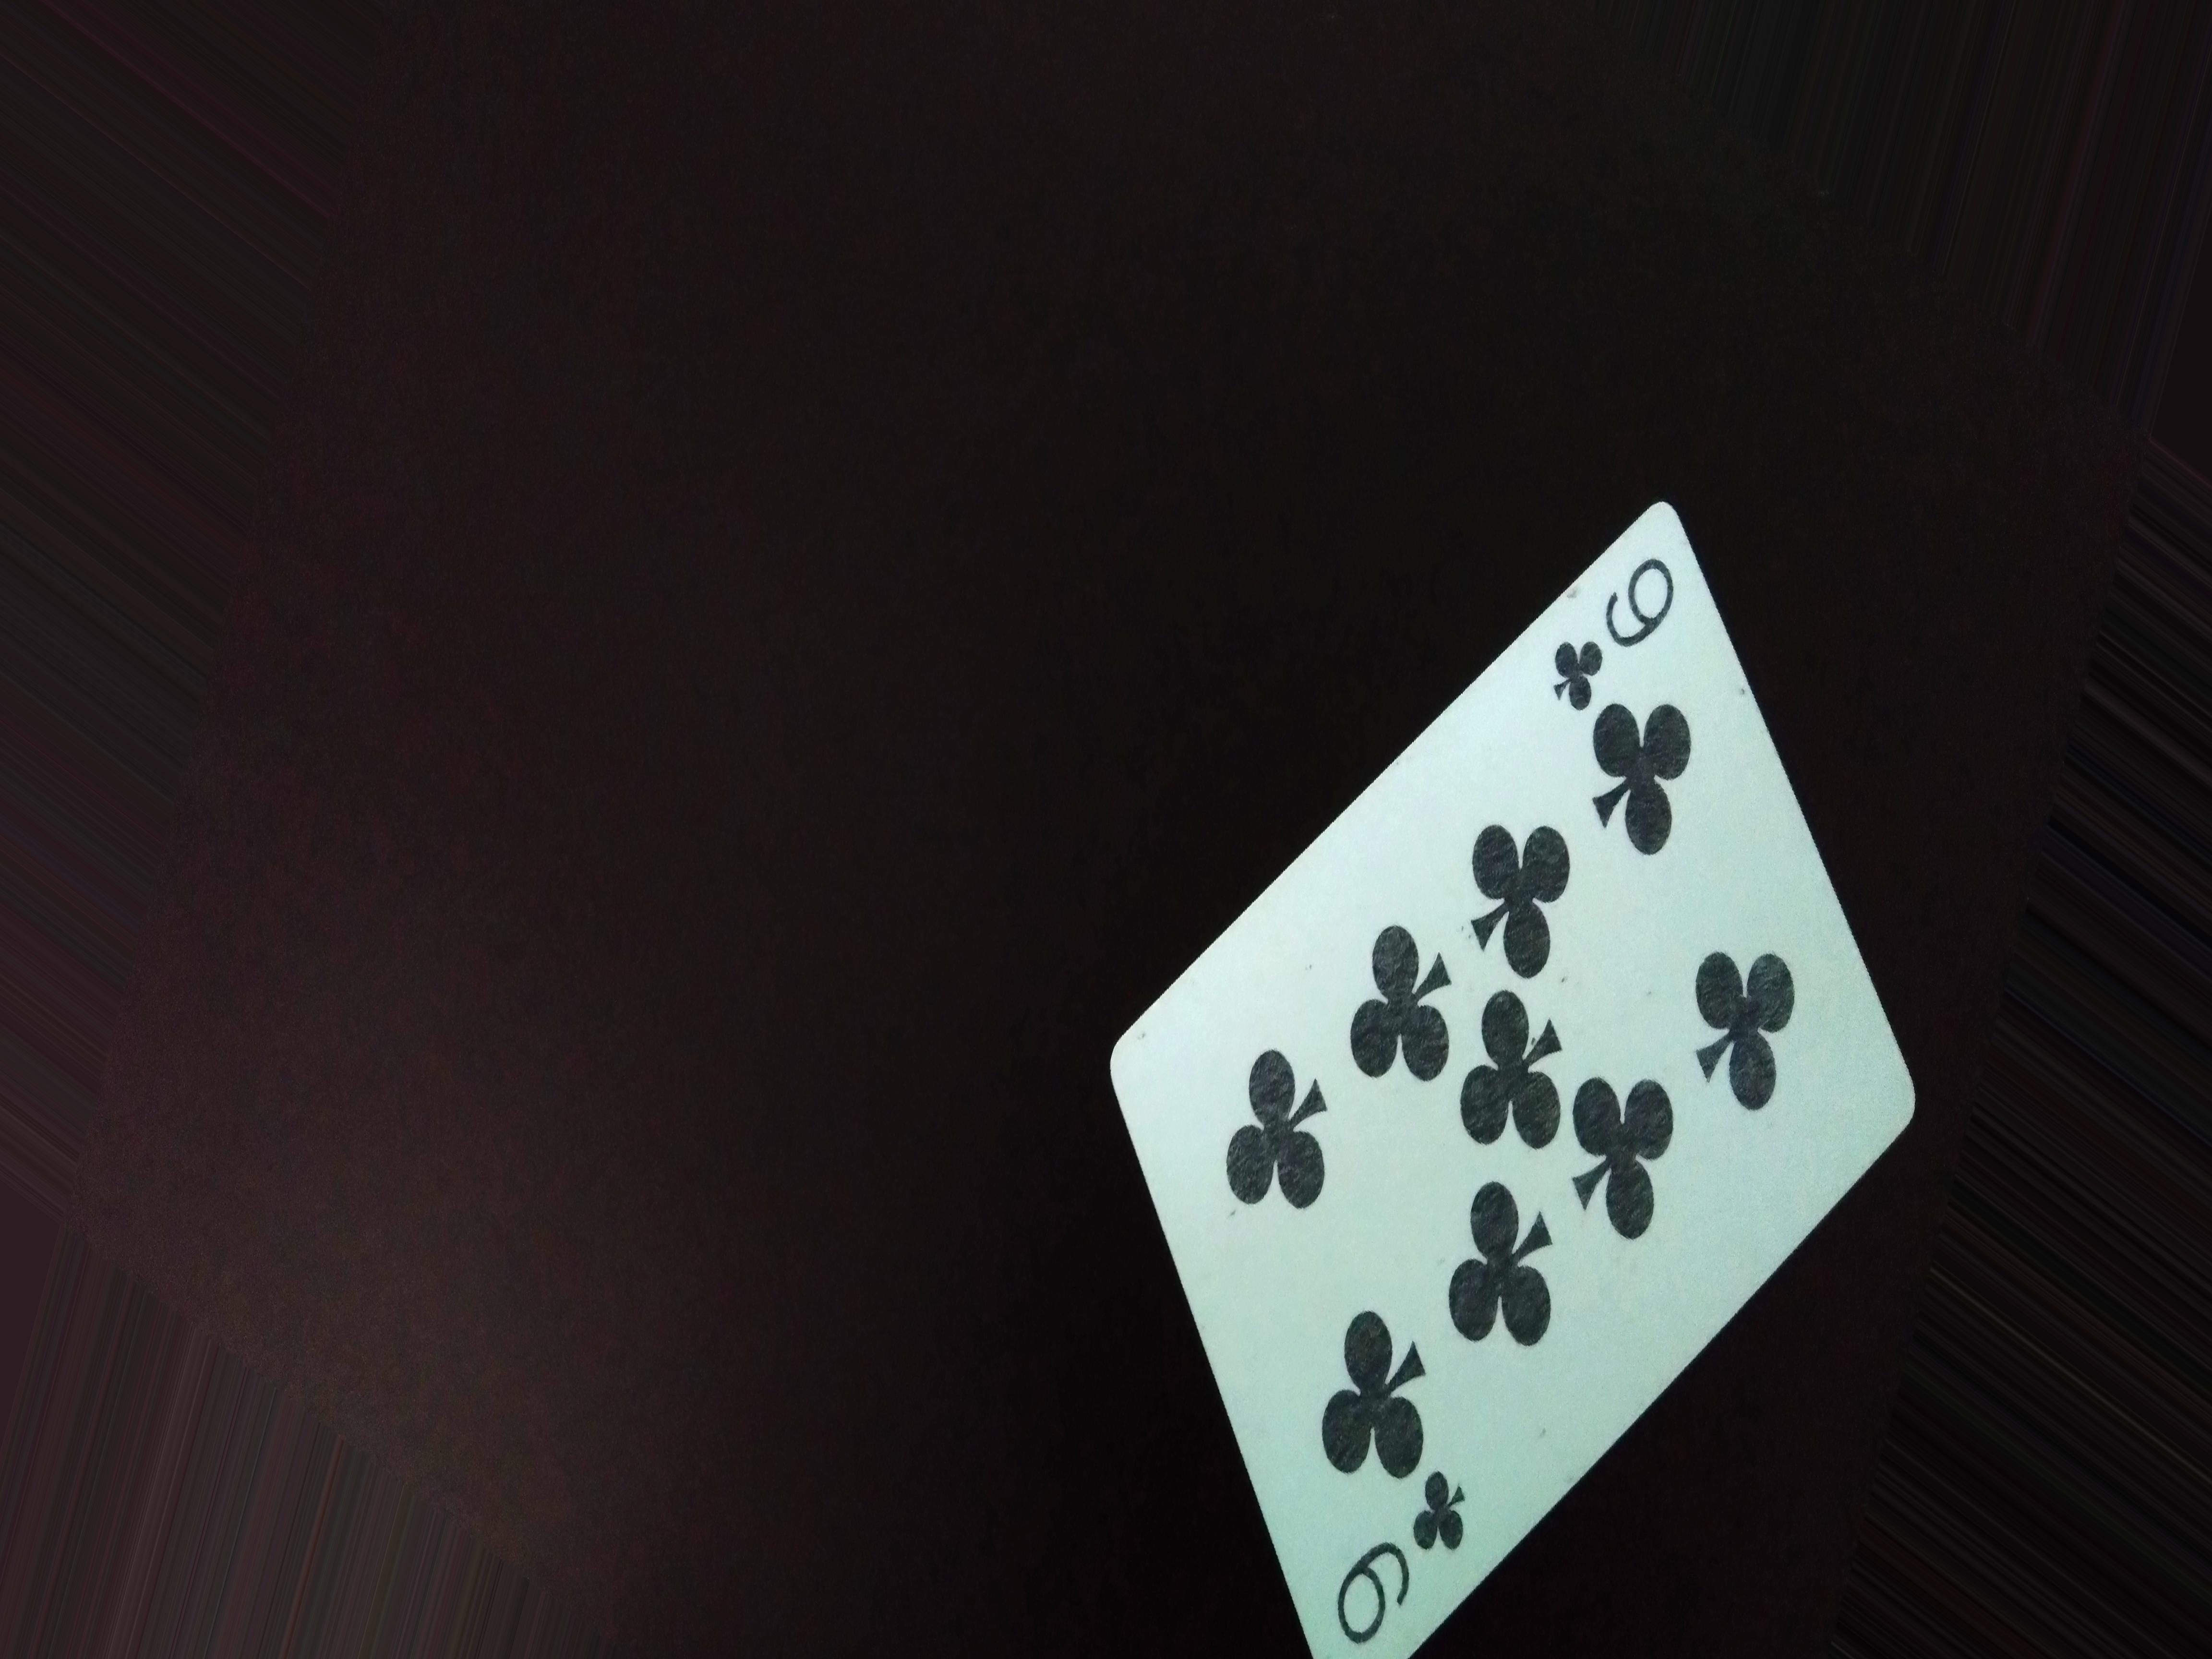9C: (1540, 544, 1679, 728)
